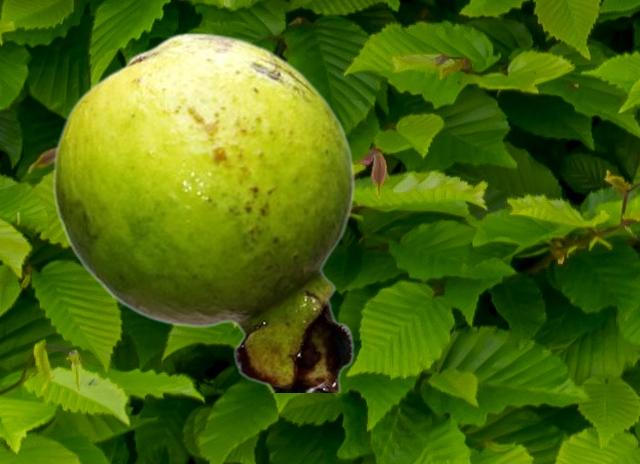guava: (52, 32, 355, 391)
